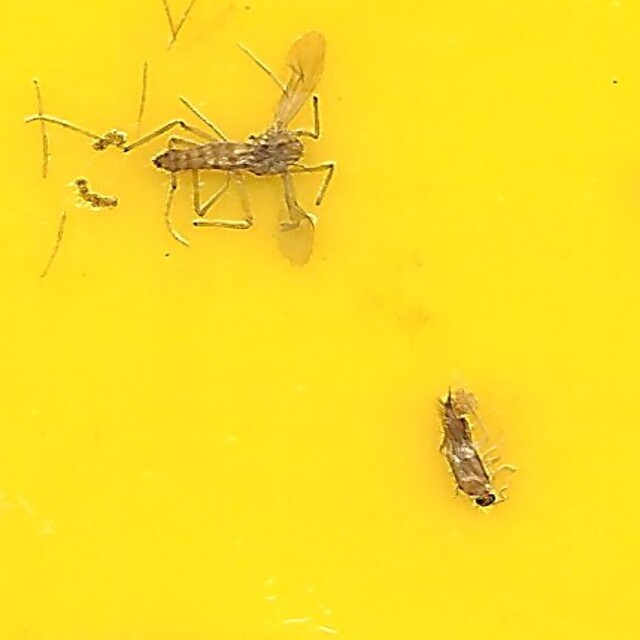Nematocera: (149, 130, 312, 186)
Trichoptera: (434, 388, 491, 510)
